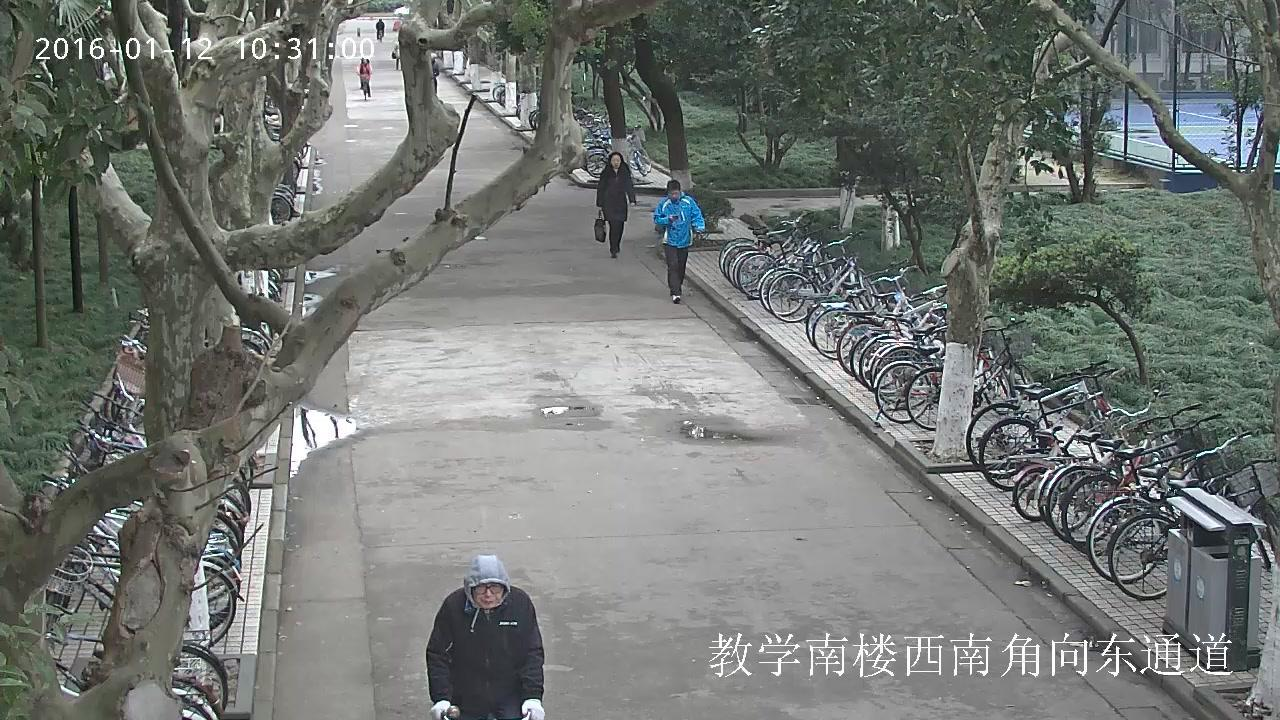person: (424, 555, 547, 720), (425, 555, 547, 720), (651, 179, 704, 303), (593, 151, 636, 258), (358, 57, 372, 100), (358, 58, 372, 96), (430, 52, 440, 94), (391, 37, 401, 70), (375, 18, 384, 42), (375, 19, 384, 40)
